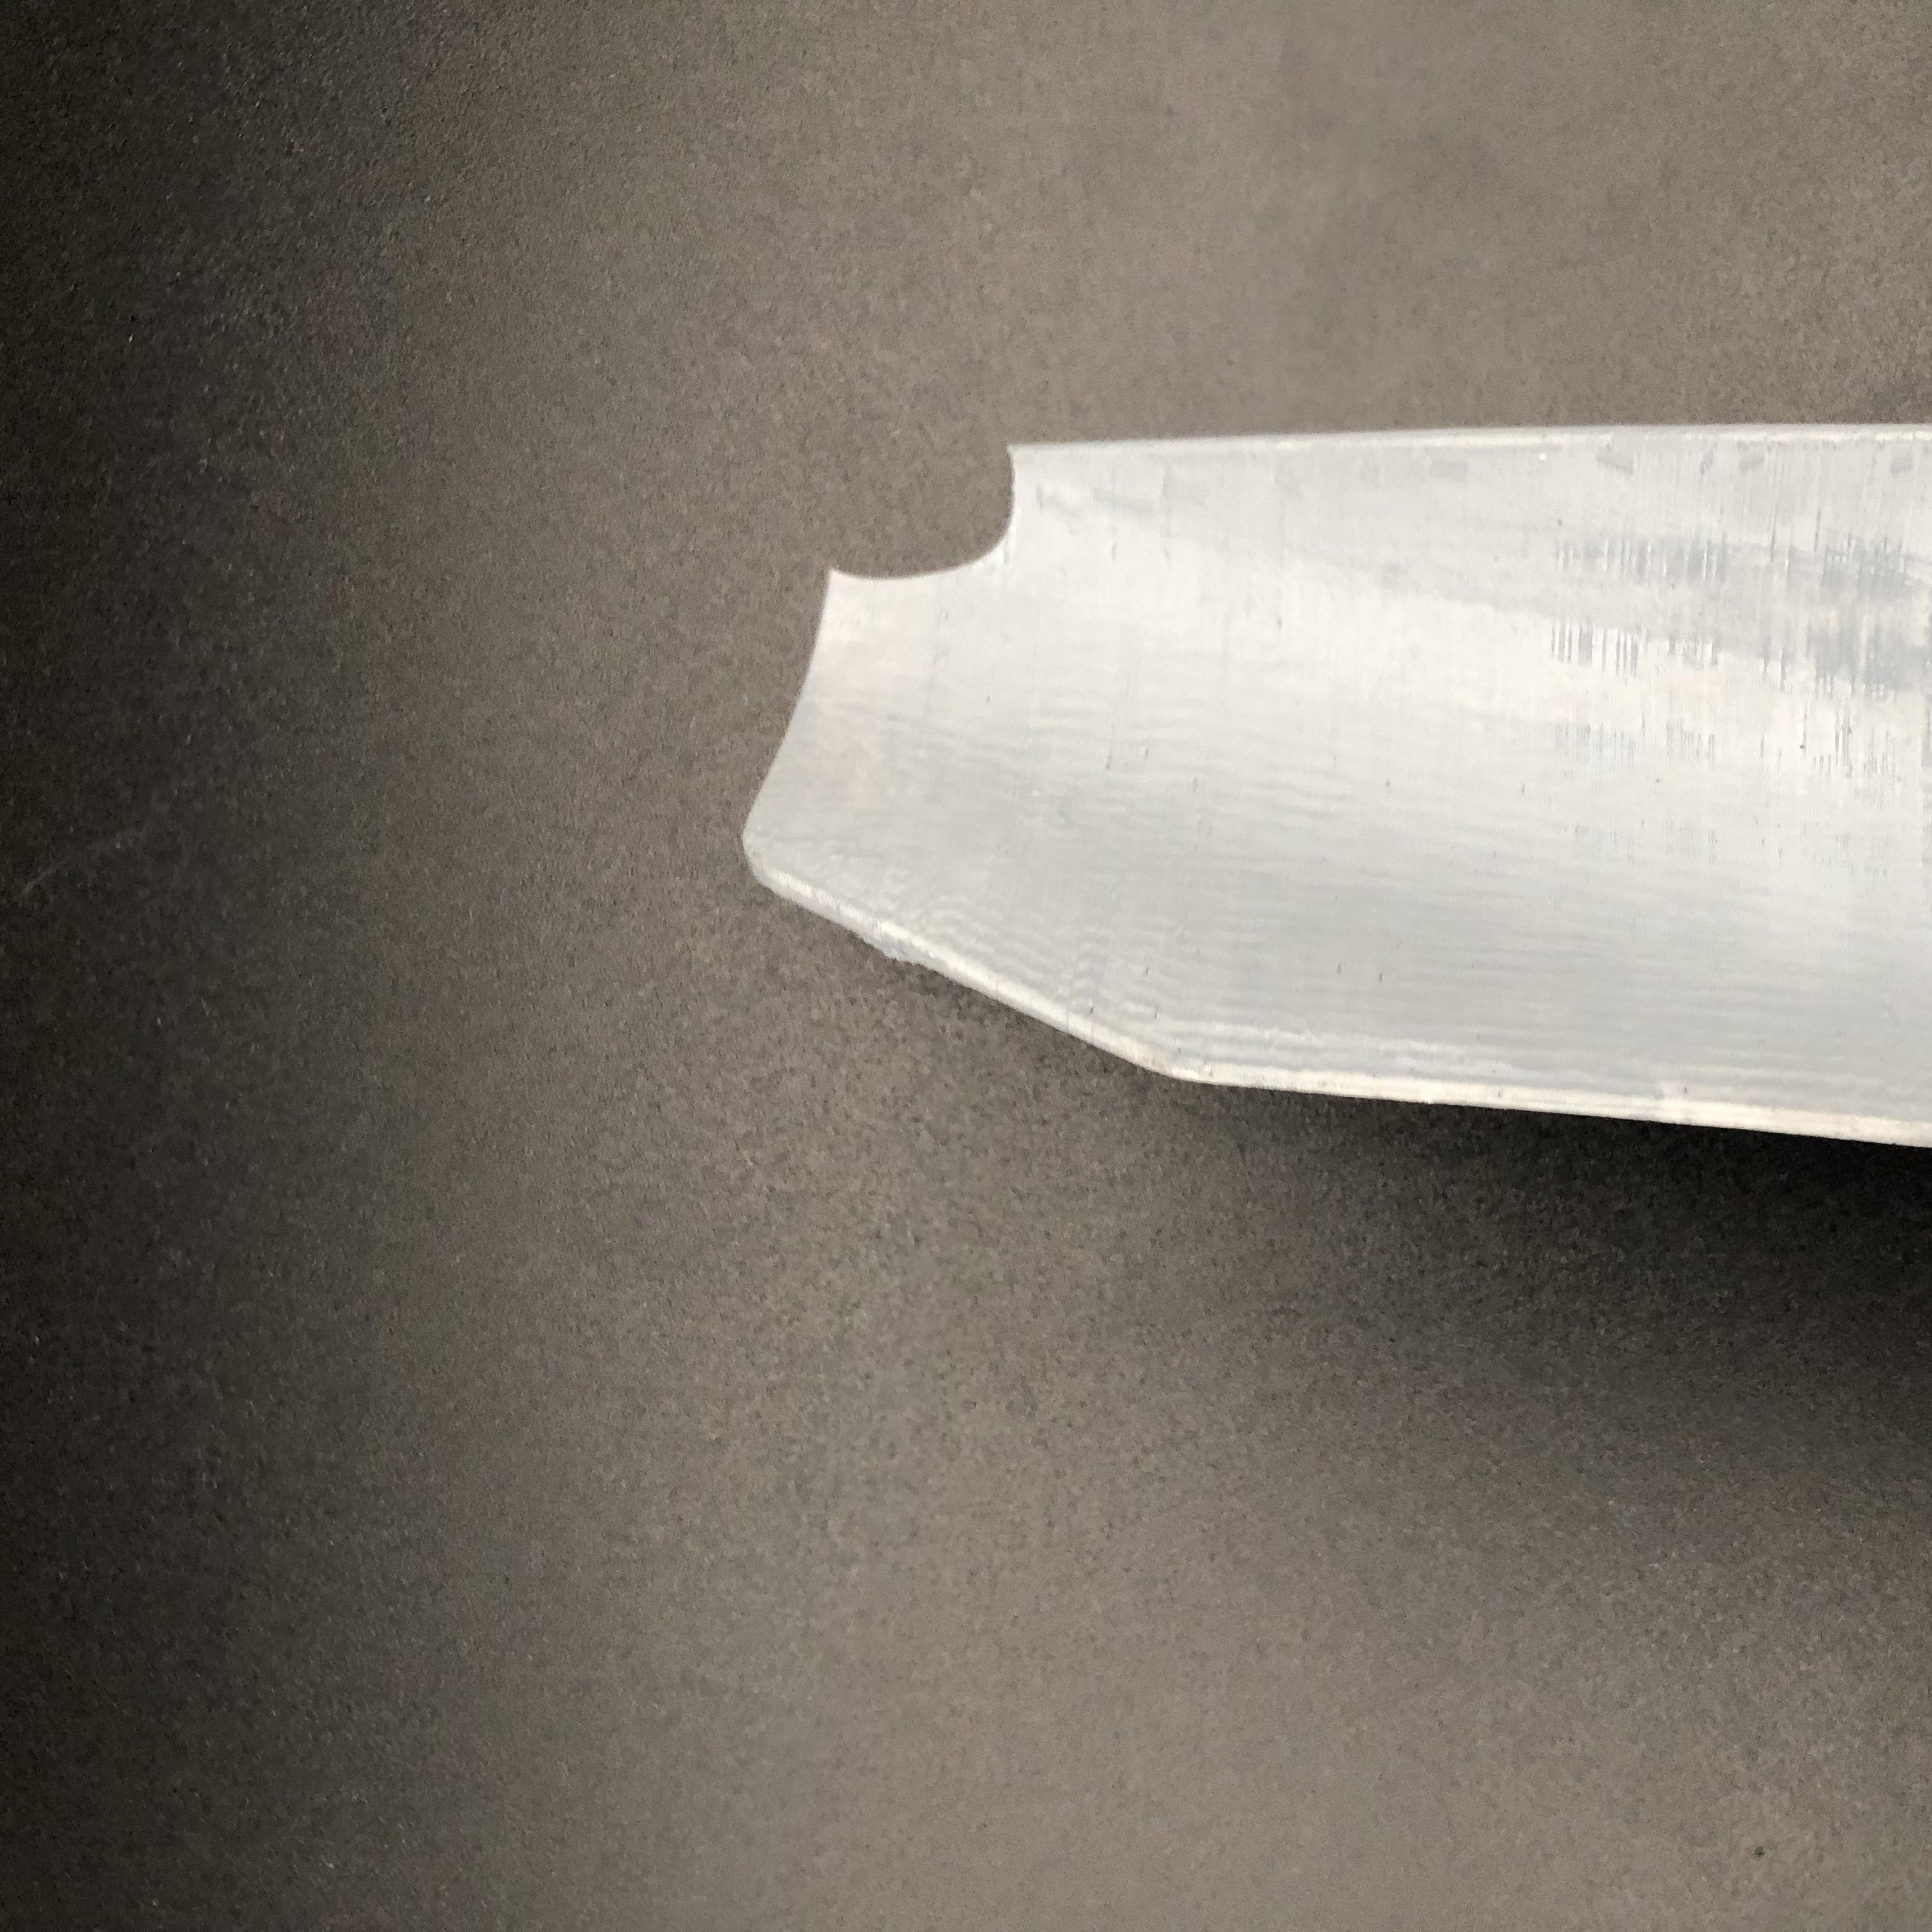fracture: (828, 449, 1065, 600)
